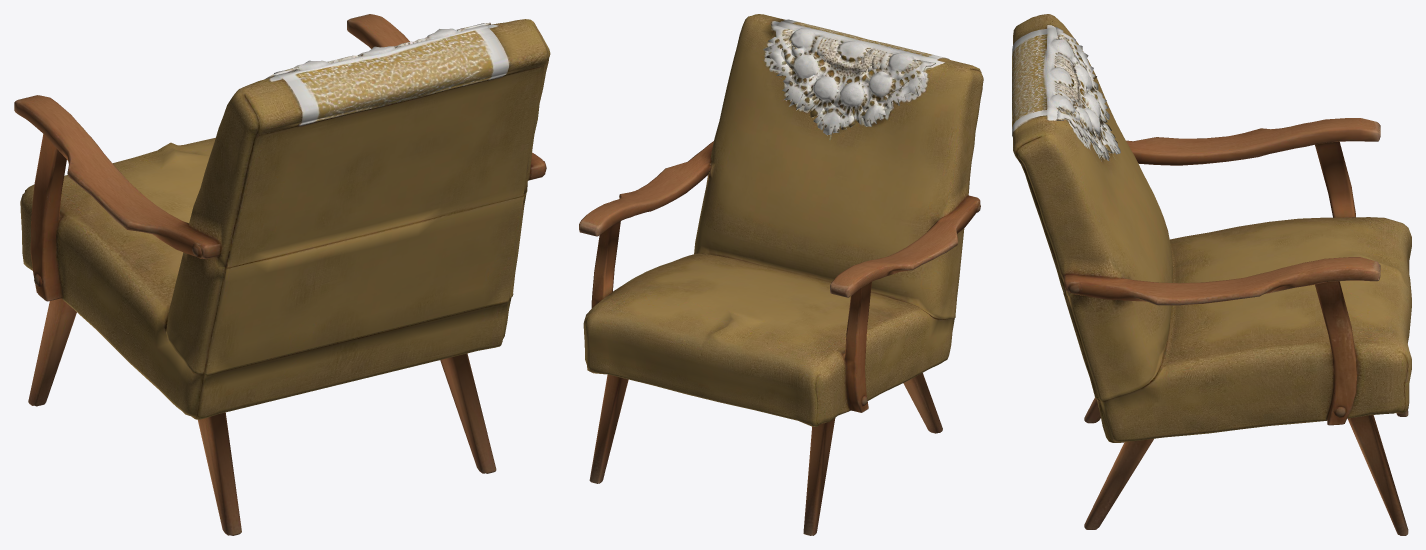
Rendered from armchair.glb.
3 views of the same model, side by side, from view 1: azimuth 30°, elevation 25°; view 2: azimuth 150°, elevation 25°; view 3: azimuth 270°, elevation 25° (orthographic). The views are drawn at different scales.
Parts seen in each view (by area): view 1: tripo_node_58351dcf-e898-41cb-8512-db59f; view 2: tripo_node_58351dcf-e898-41cb-8512-db59f; view 3: tripo_node_58351dcf-e898-41cb-8512-db59f.
Boxes of the visible parts, bbox=[...] form: tripo_node_58351dcf-e898-41cb-8512-db59f: bbox=[14, 14, 550, 535]; tripo_node_58351dcf-e898-41cb-8512-db59f: bbox=[579, 14, 983, 535]; tripo_node_58351dcf-e898-41cb-8512-db59f: bbox=[1012, 14, 1411, 535].
Size of the model in its own units: 0.8652 by 0.998 by 0.8965.
Materials: 1 (1 with a texture image).
